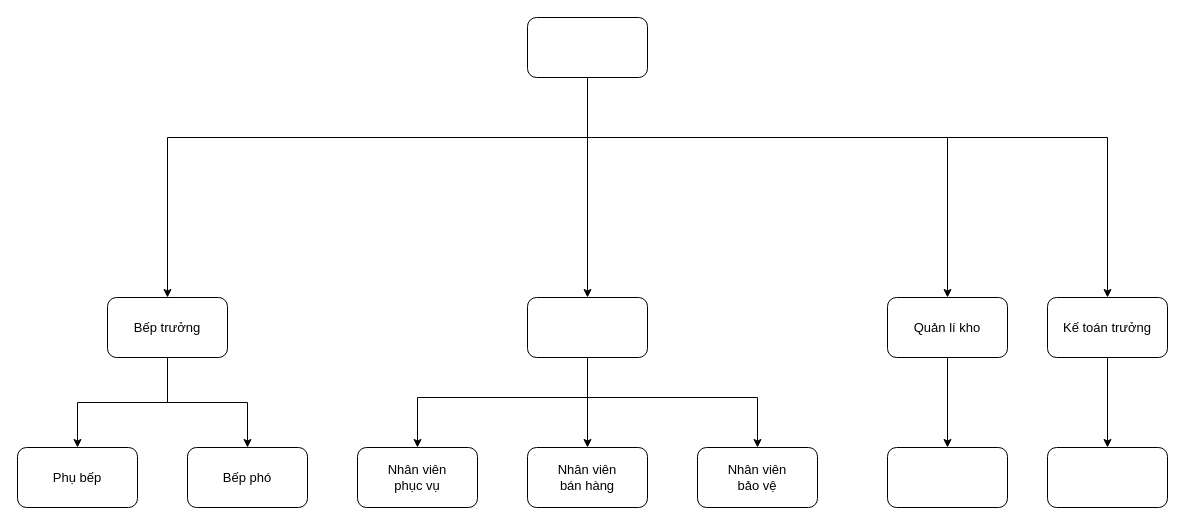
Image size: 1185x525. Some labels were removed from this diagram. Each missing label, with the box of its shape:
Chủ nhà hàng: (526, 16, 648, 78)
Kế toán viên: (1046, 446, 1168, 508)
Nhân viên giao hàng: (886, 446, 1008, 508)
Quản lí giám sát: (526, 296, 648, 358)
